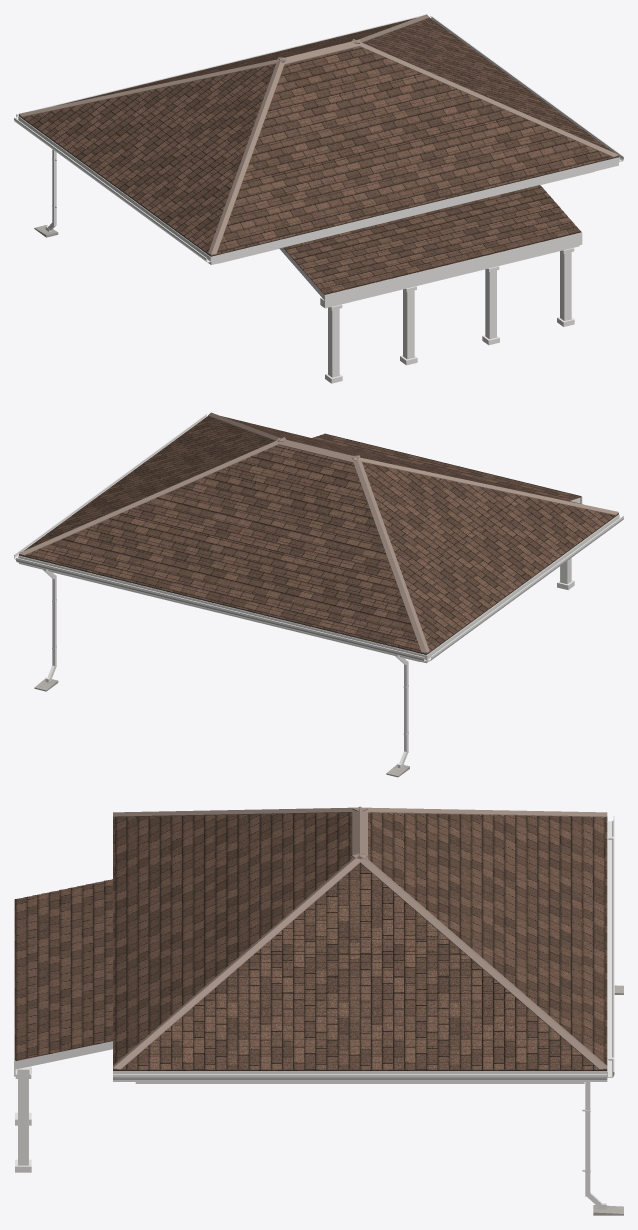
Rendered from office_roof.glb.
The picture shows the model from 3 angles, top to bottom: view 1: azimuth 30°, elevation 25°; view 2: azimuth 150°, elevation 25°; view 3: azimuth 270°, elevation 25°; orthographic projection. The views are drawn at different scales.
Visible parts, largest first — view 1: office_roof_shingles, office_roof_trim, office_roof_shingle_c, office_roof_gutter; view 2: office_roof_shingles, office_roof_gutter, office_roof_shingle_c, office_roof_trim; view 3: office_roof_shingles, office_roof_shingle_c, office_roof_gutter, office_roof_trim.
Part boxes in pixels (box(x1,y1,x2,y2)): office_roof_shingles: box(19, 17, 618, 294); office_roof_trim: box(19, 116, 618, 383); office_roof_shingle_c: box(19, 14, 618, 254); office_roof_gutter: box(14, 15, 623, 262); office_roof_shingles: box(19, 416, 618, 654); office_roof_gutter: box(14, 414, 623, 768); office_roof_shingle_c: box(19, 412, 618, 652); office_roof_trim: box(19, 496, 618, 663); office_roof_shingles: box(14, 812, 607, 1070); office_roof_shingle_c: box(113, 806, 607, 1069); office_roof_gutter: box(113, 816, 614, 1208); office_roof_trim: box(14, 899, 607, 1172).
Bounding box in the file's own units: 11.16 × 5.37 × 10.98.
8 materials, 3 textured.
